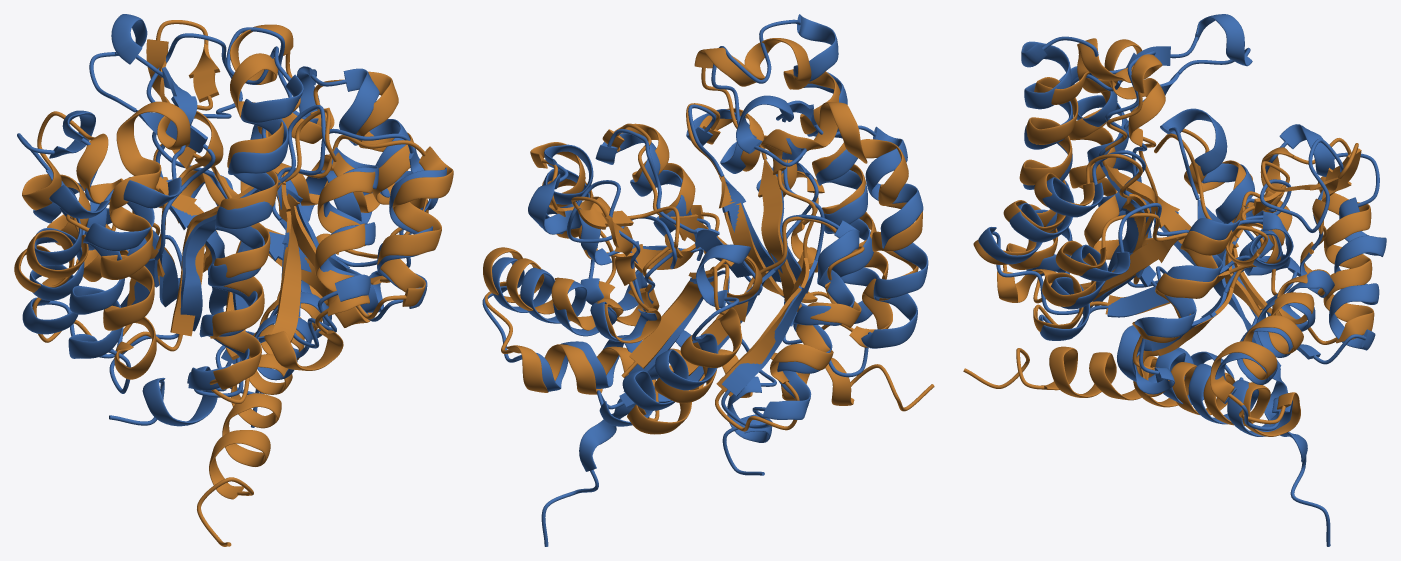
Rendered from AF-A0A6P1GFG5-F1-AF-Q17R31-F1.glb.
3 views of the same model, side by side, from view 1: azimuth 30°, elevation 25°; view 2: azimuth 150°, elevation 25°; view 3: azimuth 270°, elevation 25° (orthographic). The views are drawn at different scales.
Size of the model in its own units: 45.03 by 52.41 by 44.01.
